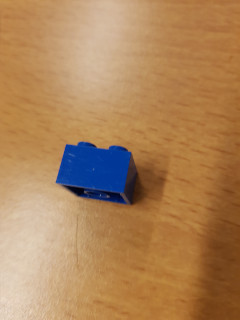2x2 blue: (54, 140, 139, 208)
